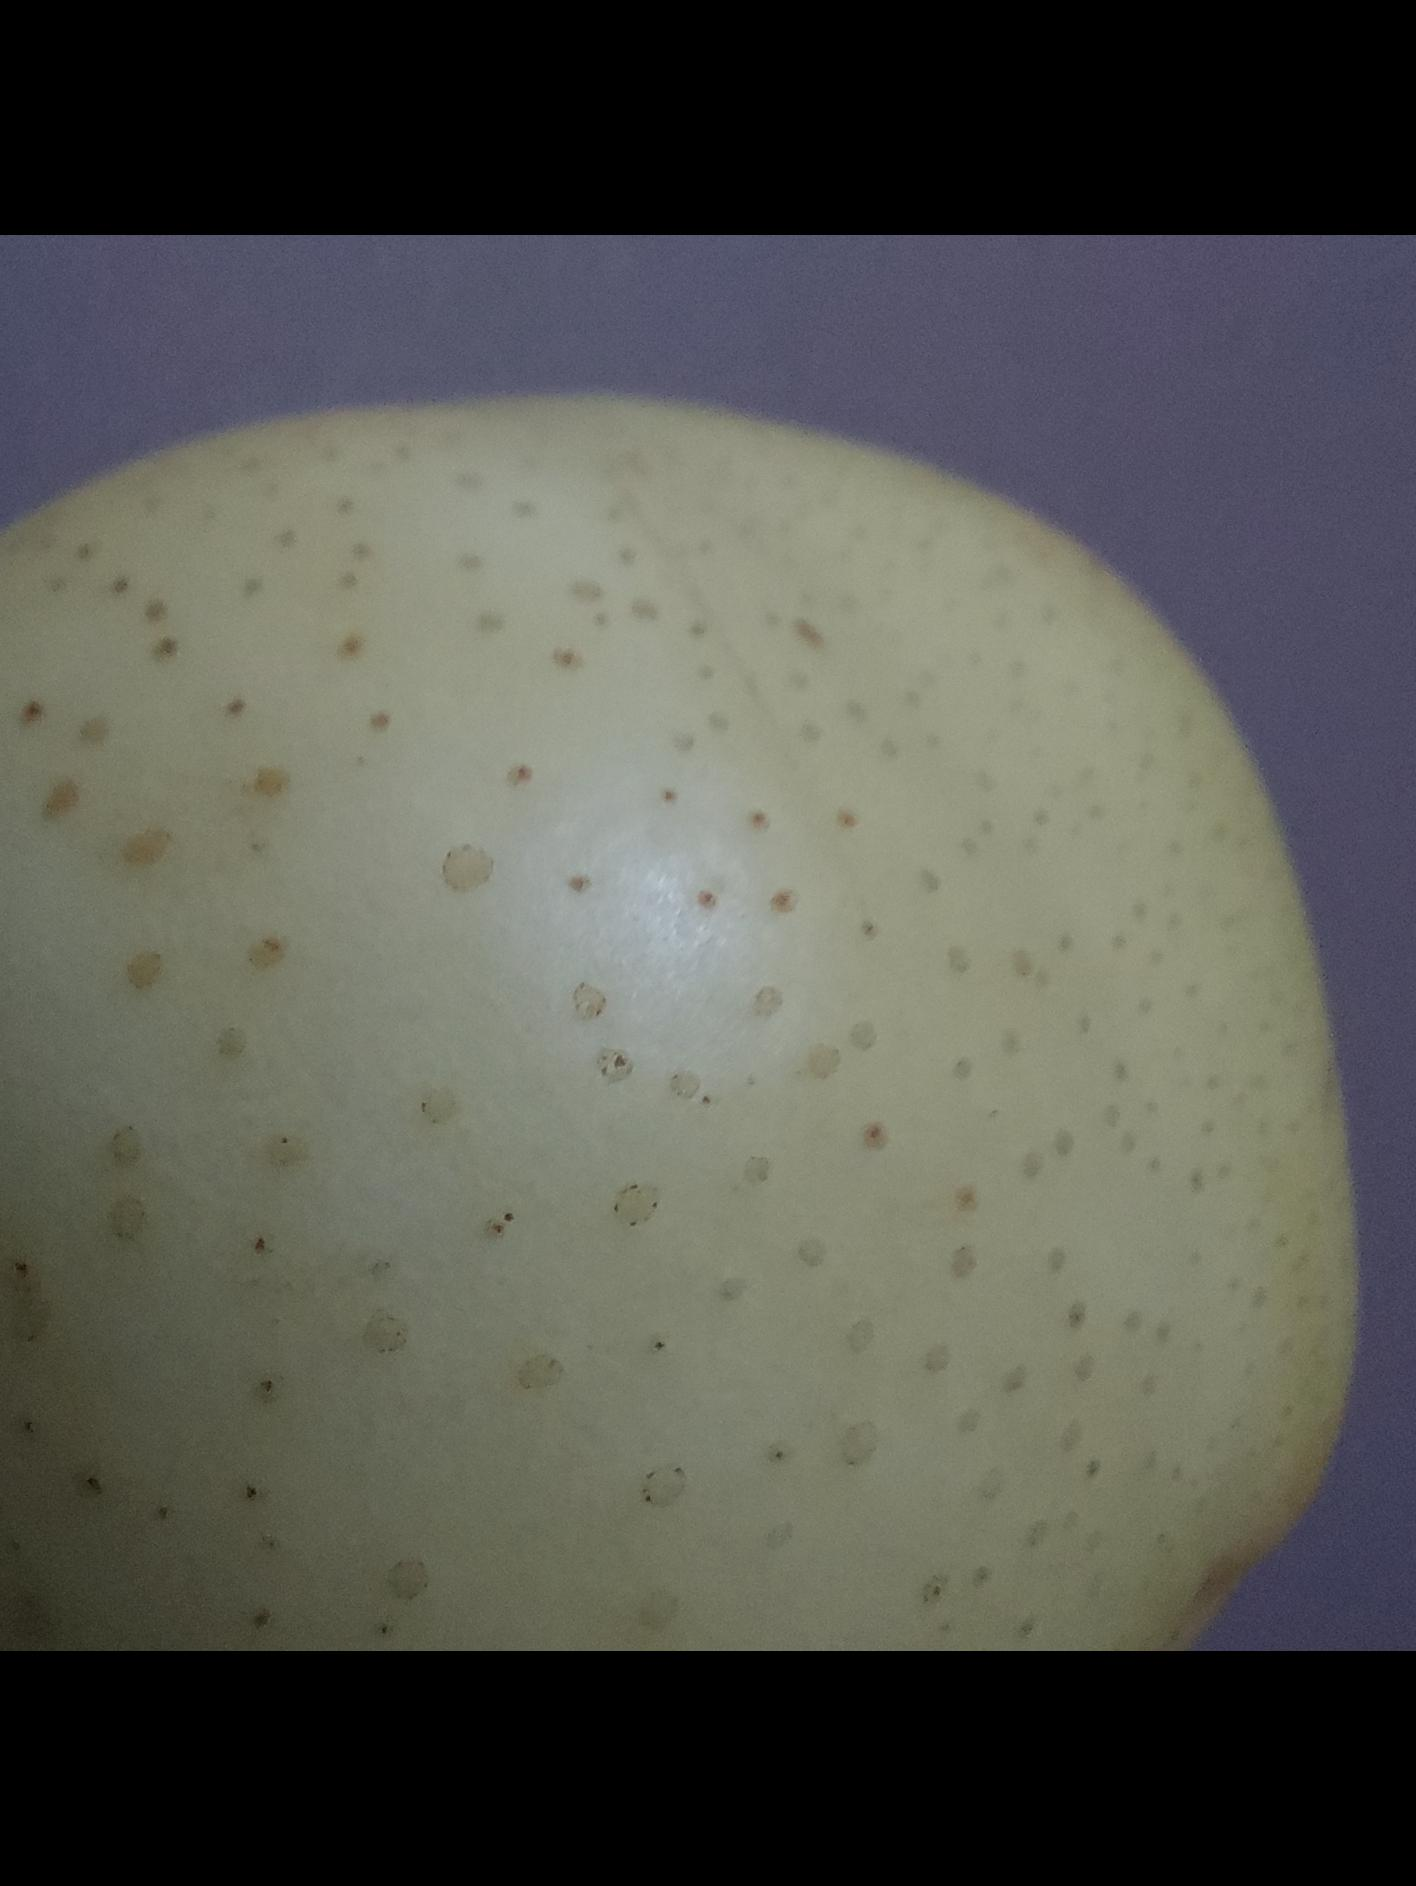Good Pear: (0, 384, 1367, 1651)
